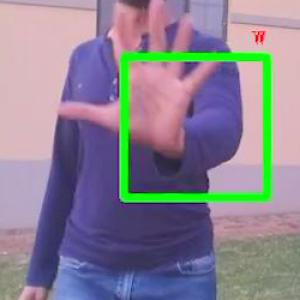follow_hand: (52, 0, 230, 159)
